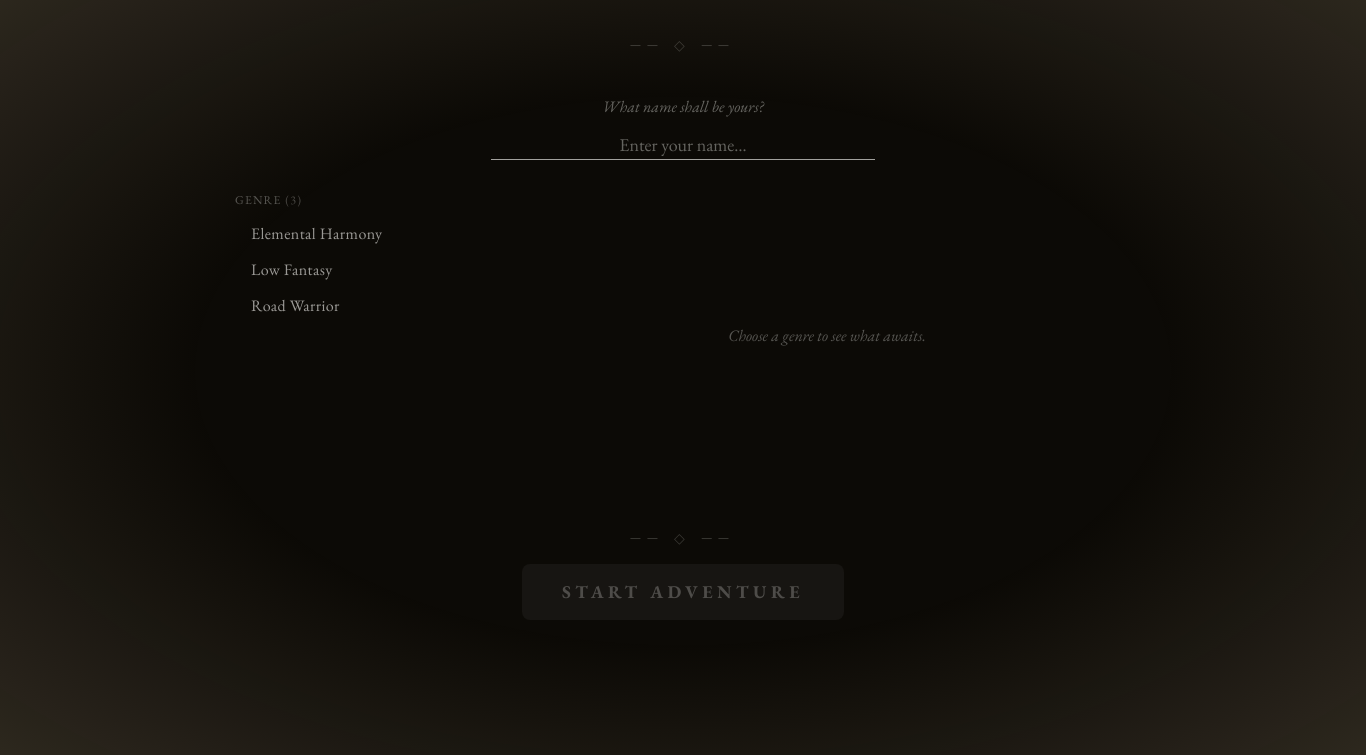
Test case: edge cases › handles empty choices array gracefully on choice scene
Type "TestHero" into the field named "player name" at (683, 146), box [491,131,875,160]
Wait 100 ms
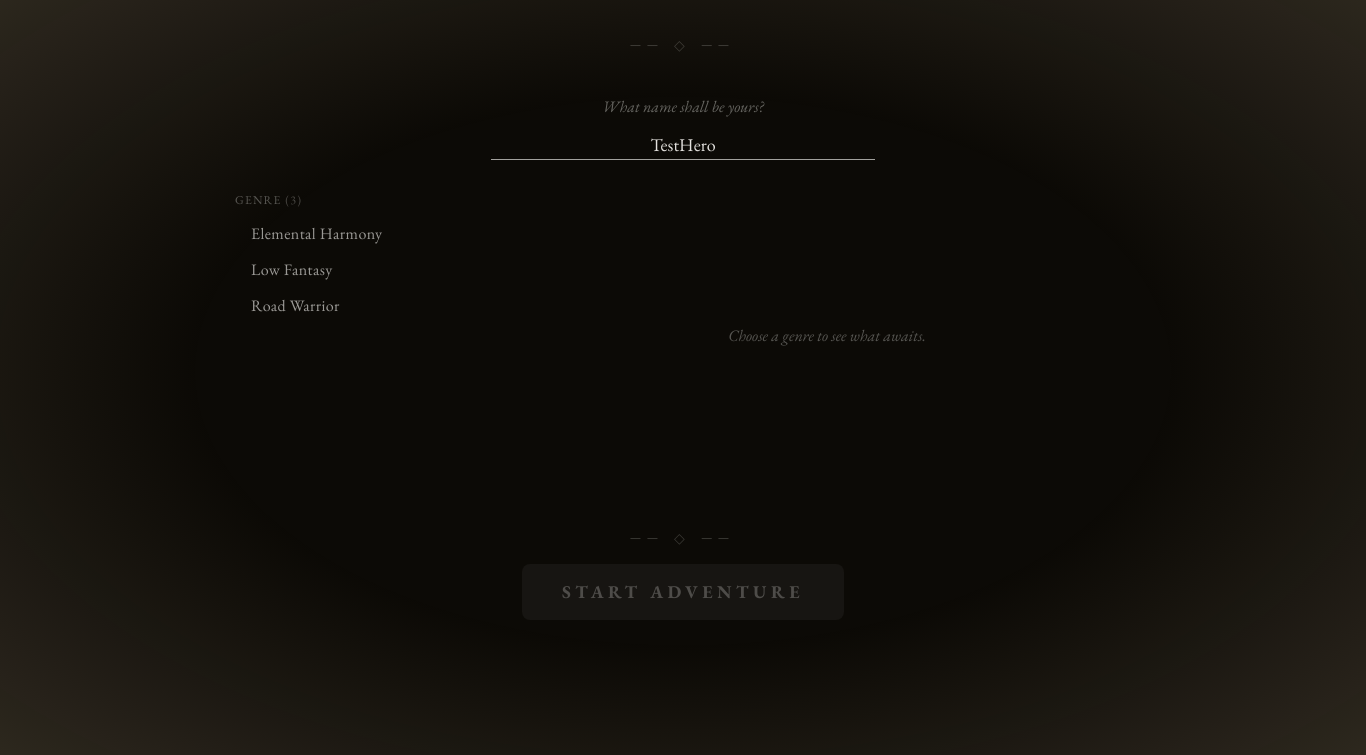
Click the radio button labelled "Low Fantasy" at (358, 270), box [235,252,481,288]
Wait 100 ms
(page scrolled)
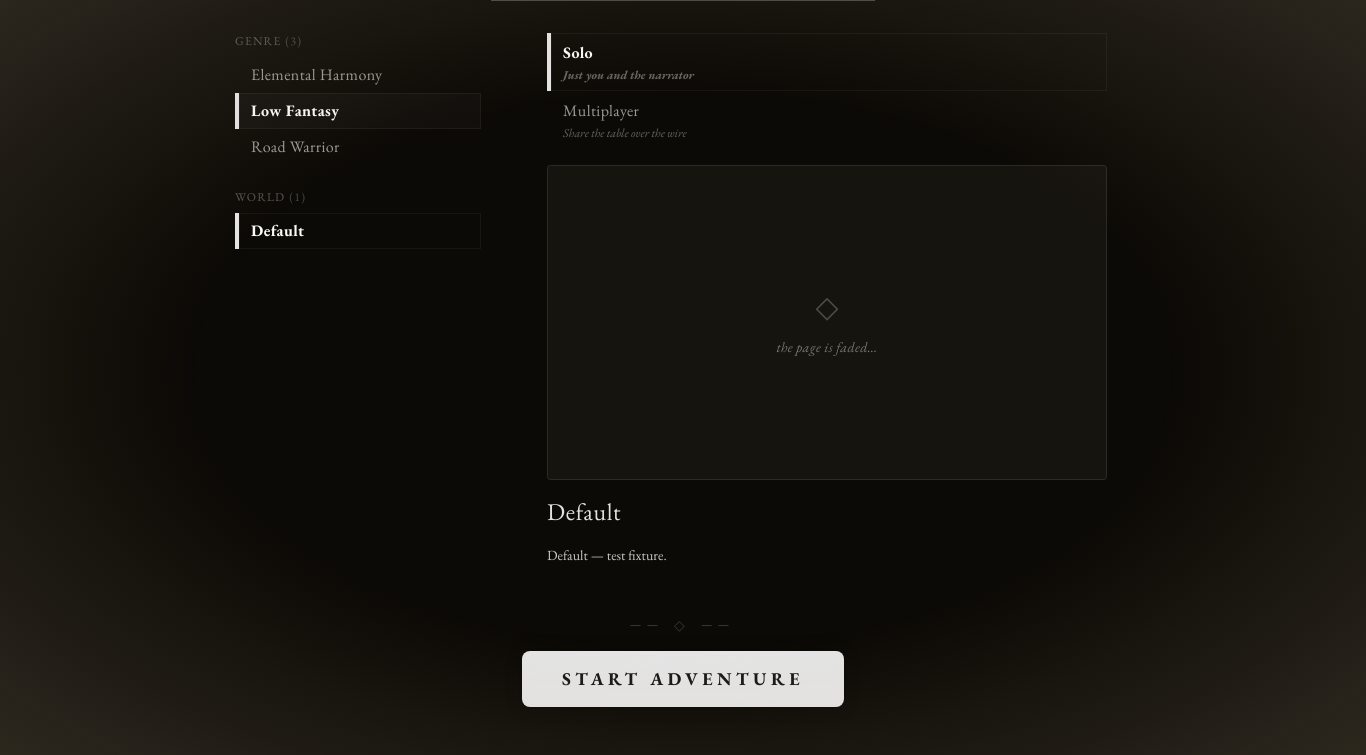
Click the button "Start Adventure" at (683, 679), box [522,651,844,707]
Wait 600 ms
(page scrolled)
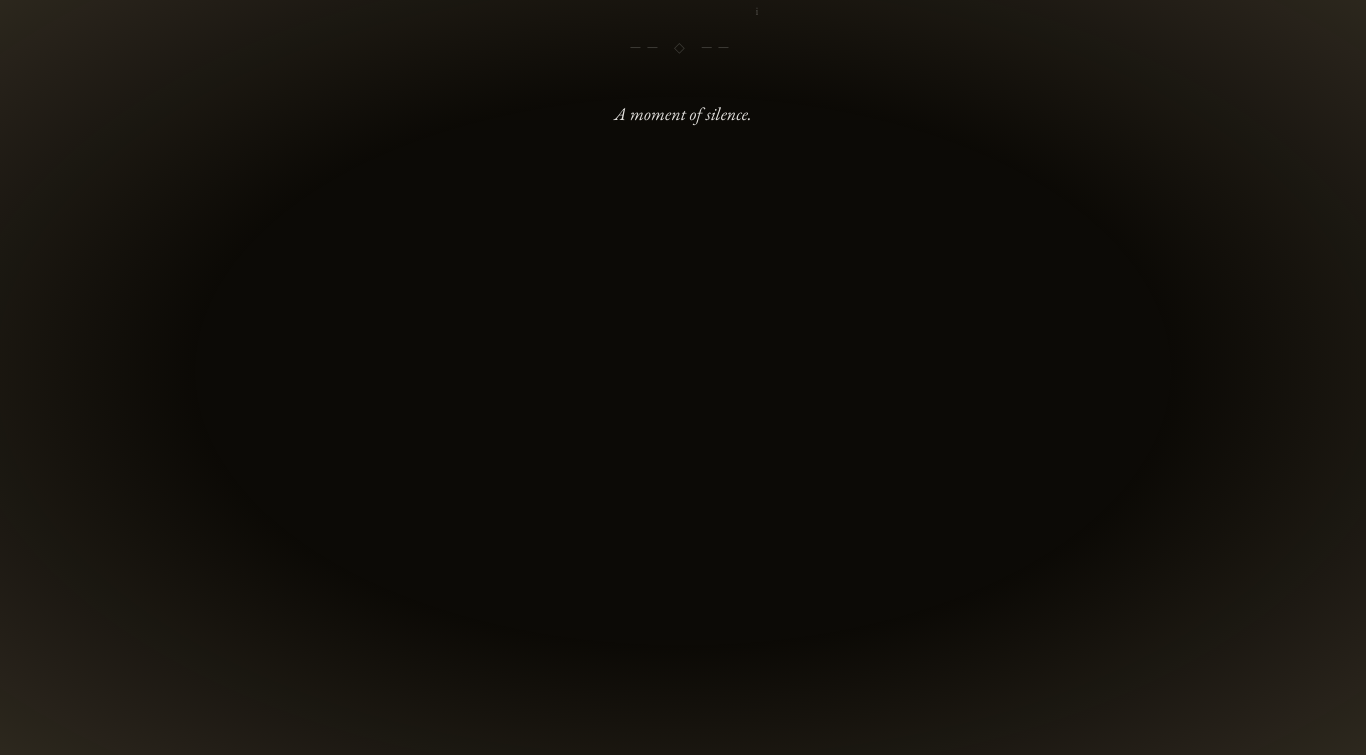
Check: the text "A moment of silence." is shown, box [614,99,752,128]
